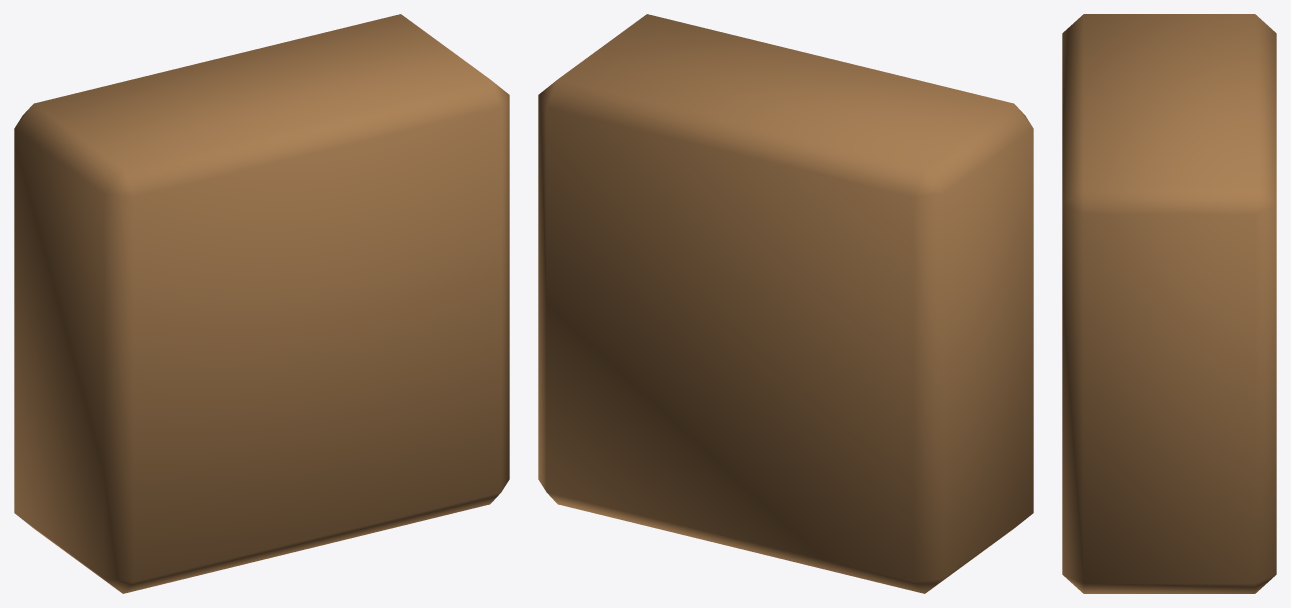
Rendered from button.fg.002.glb.
3 renders of one model, left to right at view 1: azimuth 30°, elevation 25°; view 2: azimuth 150°, elevation 25°; view 3: azimuth 270°, elevation 25°, orthographic. The views are drawn at different scales.
Visible parts, largest first — view 1: button.fg.002; view 2: button.fg.002; view 3: button.fg.002.
Boxes of the visible parts, x1,y1,x2,y2 form: button.fg.002: [14, 14, 509, 593]; button.fg.002: [538, 14, 1033, 593]; button.fg.002: [1062, 14, 1276, 593].
Size of the model in its own units: 1.05 by 1.05 by 0.5.
